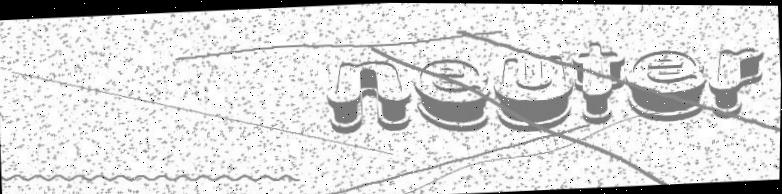e: (623, 46, 709, 123), (411, 55, 492, 135)
n: (325, 57, 415, 134)
r: (705, 44, 768, 119)
t: (571, 39, 629, 125)
u: (491, 51, 576, 134)
